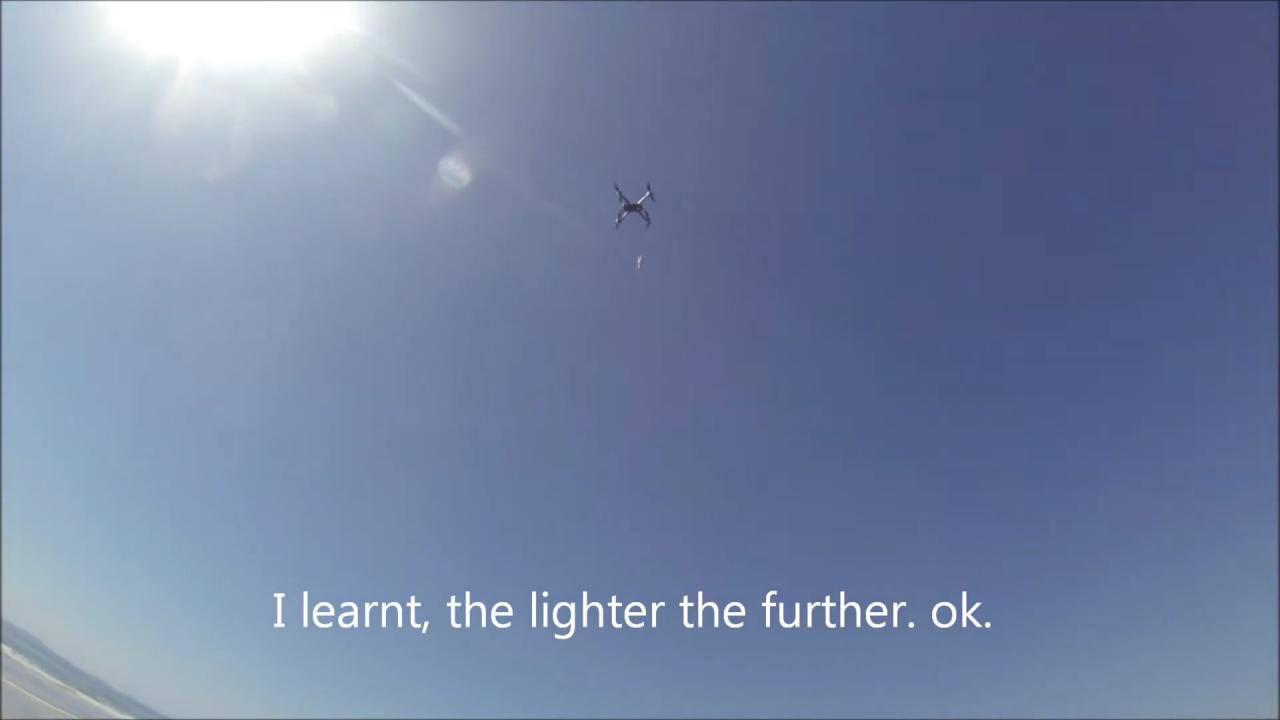Drone: (595, 172, 671, 238)
